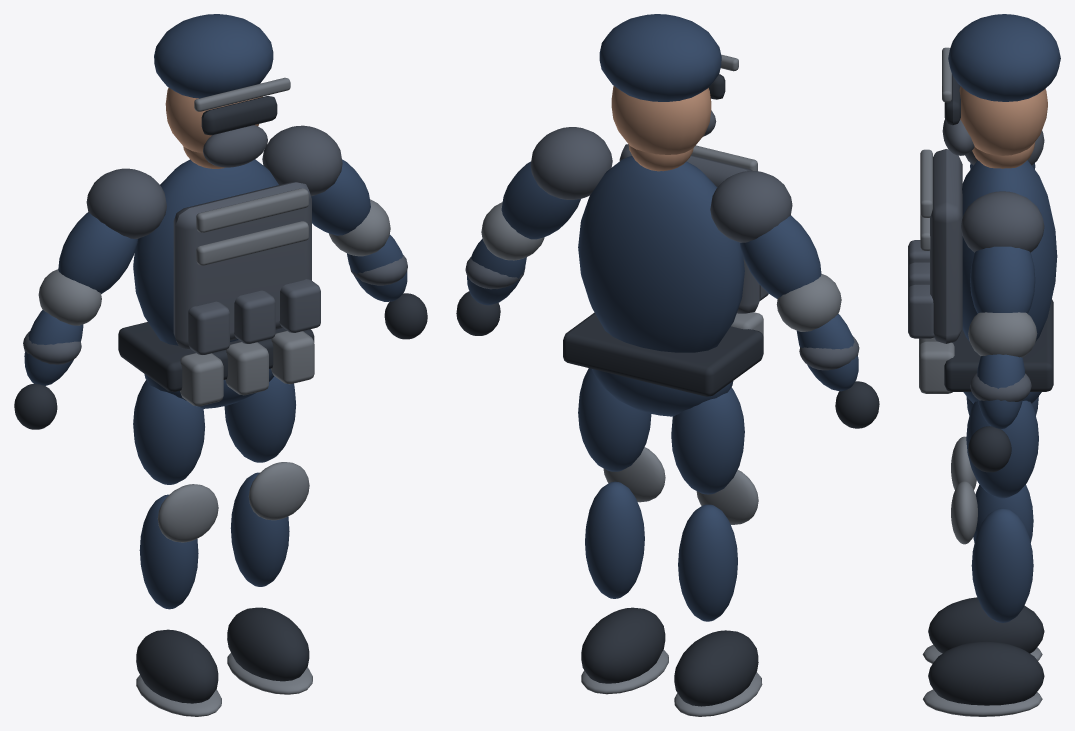
Rendered from SoldadoASDA.fbx.
3 views of the same model, side by side, from view 1: azimuth 30°, elevation 25°; view 2: azimuth 150°, elevation 25°; view 3: azimuth 270°, elevation 25° (orthographic). The views are drawn at different scales.
Parts seen in each view (by area): view 1: Soldado_ASDA; view 2: Soldado_ASDA; view 3: Soldado_ASDA.
Boxes of the visible parts, box(x1,y1,x2,y2) form: Soldado_ASDA: box(14, 14, 427, 716); Soldado_ASDA: box(456, 14, 879, 716); Soldado_ASDA: box(908, 14, 1060, 716).
Bounding box in the file's own units: 1.3 × 2.01 × 0.42.
